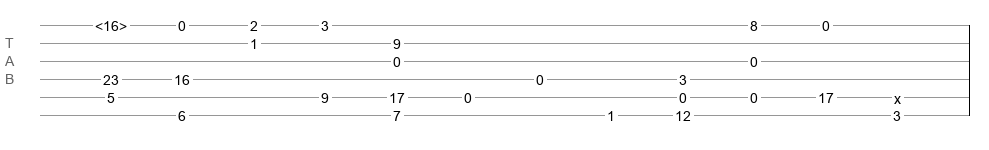0: (178, 18, 186, 28), (393, 54, 401, 64), (464, 90, 472, 100), (536, 72, 544, 82), (679, 90, 687, 100), (750, 54, 758, 64), (750, 90, 758, 100), (822, 18, 830, 28)
1: (250, 36, 258, 46), (607, 108, 615, 118)
12: (675, 108, 691, 118)
16: (174, 72, 190, 82)
17: (389, 90, 405, 100), (818, 90, 834, 100)
2: (250, 18, 258, 28)
23: (103, 72, 119, 82)
3: (321, 18, 329, 28), (679, 72, 687, 82), (893, 108, 901, 118)
5: (107, 90, 115, 100)
6: (178, 108, 186, 118)
7: (393, 108, 401, 118)
8: (750, 18, 758, 28)
9: (321, 90, 329, 100), (393, 36, 401, 46)
harmonic: (95, 18, 127, 28)
x: (894, 91, 901, 99)
